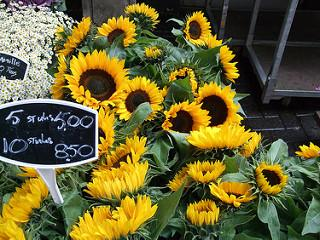sunflower: (65, 49, 131, 111), (196, 82, 242, 128), (120, 78, 162, 121), (162, 101, 210, 136), (209, 179, 255, 206), (97, 16, 137, 46), (254, 161, 287, 193), (184, 10, 211, 44)
